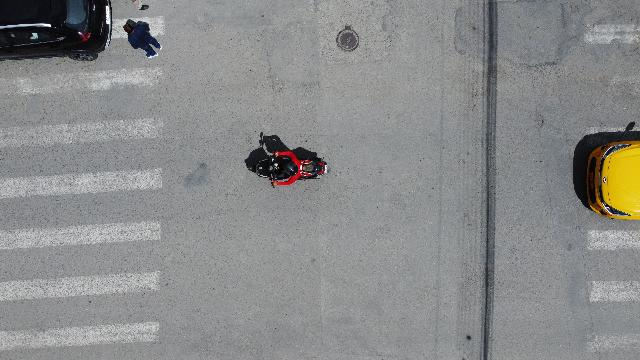Vehiculo: (0, 0, 112, 60), (588, 134, 640, 228)
